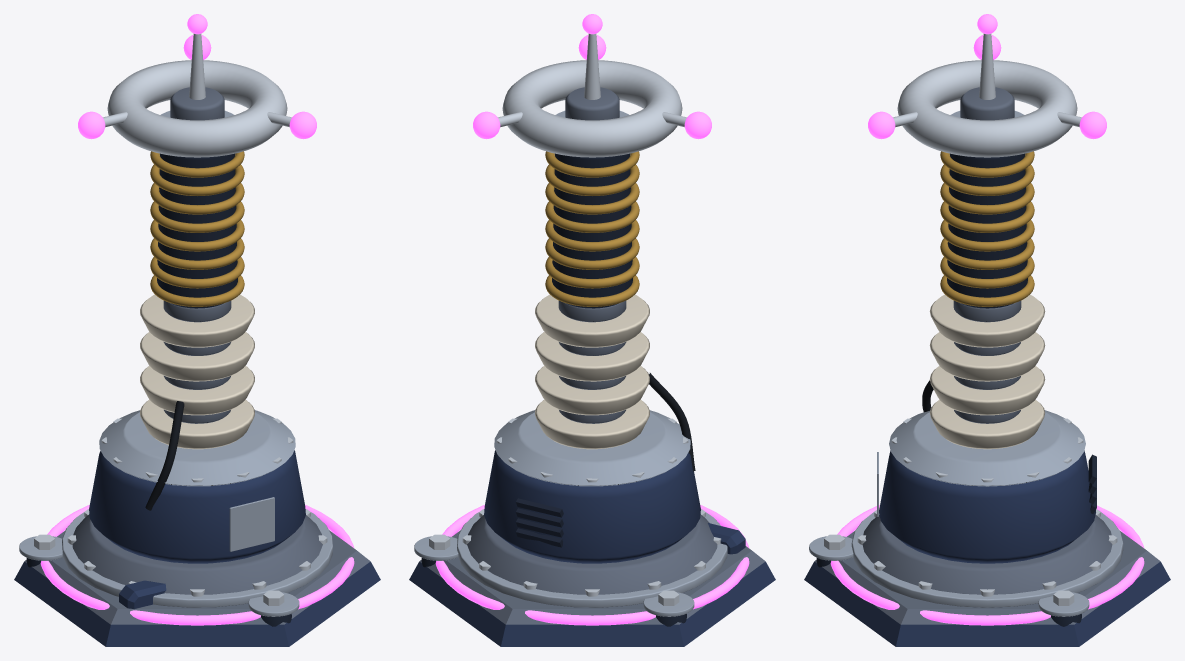
File: tower_arc_chassis.glb
The picture shows the model from 3 angles, left to right: view 1: azimuth 30°, elevation 25°; view 2: azimuth 150°, elevation 25°; view 3: azimuth 270°, elevation 25°; orthographic projection.
Parts seen in each view (by area): view 1: arc_base_drum, arc_toroid, arc_baseplate, arc_collar, arc_base_cap, arc_coil_core, arc_baseplate_bevel, arc_flange, arc_seam, arc_insulator3, arc_insulator2, arc_insulator1 (+20 smaller); view 2: arc_base_drum, arc_toroid, arc_baseplate, arc_base_cap, arc_collar, arc_coil_core, arc_flange, arc_baseplate_bevel, arc_seam, arc_insulator3, arc_insulator0, arc_insulator1 (+20 smaller); view 3: arc_base_drum, arc_toroid, arc_collar, arc_base_cap, arc_baseplate, arc_coil_core, arc_baseplate_bevel, arc_flange, arc_seam, arc_insulator3, arc_insulator1, arc_insulator0 (+17 smaller).
Boxes of the visible parts, left/top/right/bottom form: arc_base_drum: left=89, top=450, right=305, bottom=563; arc_toroid: left=107, top=60, right=287, bottom=157; arc_baseplate: left=14, top=561, right=380, bottom=646; arc_collar: left=72, top=514, right=322, bottom=594; arc_base_cap: left=99, top=410, right=295, bottom=486; arc_coil_core: left=157, top=153, right=237, bottom=308; arc_baseplate_bevel: left=24, top=530, right=370, bottom=624; arc_flange: left=62, top=509, right=332, bottom=607; arc_seam: left=40, top=505, right=354, bottom=625; arc_insulator3: left=140, top=294, right=254, bottom=347; arc_insulator2: left=140, top=332, right=254, bottom=381; arc_insulator1: left=140, top=365, right=254, bottom=415; arc_base_drum: left=484, top=450, right=700, bottom=563; arc_toroid: left=502, top=60, right=682, bottom=157; arc_baseplate: left=409, top=561, right=775, bottom=646; arc_base_cap: left=494, top=410, right=690, bottom=486; arc_collar: left=467, top=514, right=717, bottom=594; arc_coil_core: left=552, top=153, right=632, bottom=308; arc_flange: left=457, top=509, right=727, bottom=607; arc_baseplate_bevel: left=419, top=530, right=765, bottom=624; arc_seam: left=435, top=505, right=749, bottom=625; arc_insulator3: left=535, top=294, right=649, bottom=347; arc_insulator0: left=535, top=399, right=649, bottom=449; arc_insulator1: left=535, top=365, right=649, bottom=415; arc_base_drum: left=879, top=450, right=1095, bottom=563; arc_toroid: left=897, top=60, right=1077, bottom=157; arc_collar: left=862, top=515, right=1112, bottom=594; arc_base_cap: left=889, top=410, right=1085, bottom=486; arc_baseplate: left=804, top=561, right=1170, bottom=646; arc_coil_core: left=947, top=153, right=1027, bottom=308; arc_baseplate_bevel: left=814, top=531, right=1160, bottom=624; arc_flange: left=851, top=511, right=1123, bottom=607; arc_seam: left=830, top=505, right=1144, bottom=625; arc_insulator3: left=929, top=294, right=1045, bottom=347; arc_insulator1: left=929, top=366, right=1045, bottom=415; arc_insulator0: left=930, top=399, right=1044, bottom=449.
Bounding box in the file's own units: 1.87 × 3.67 × 2.16.
